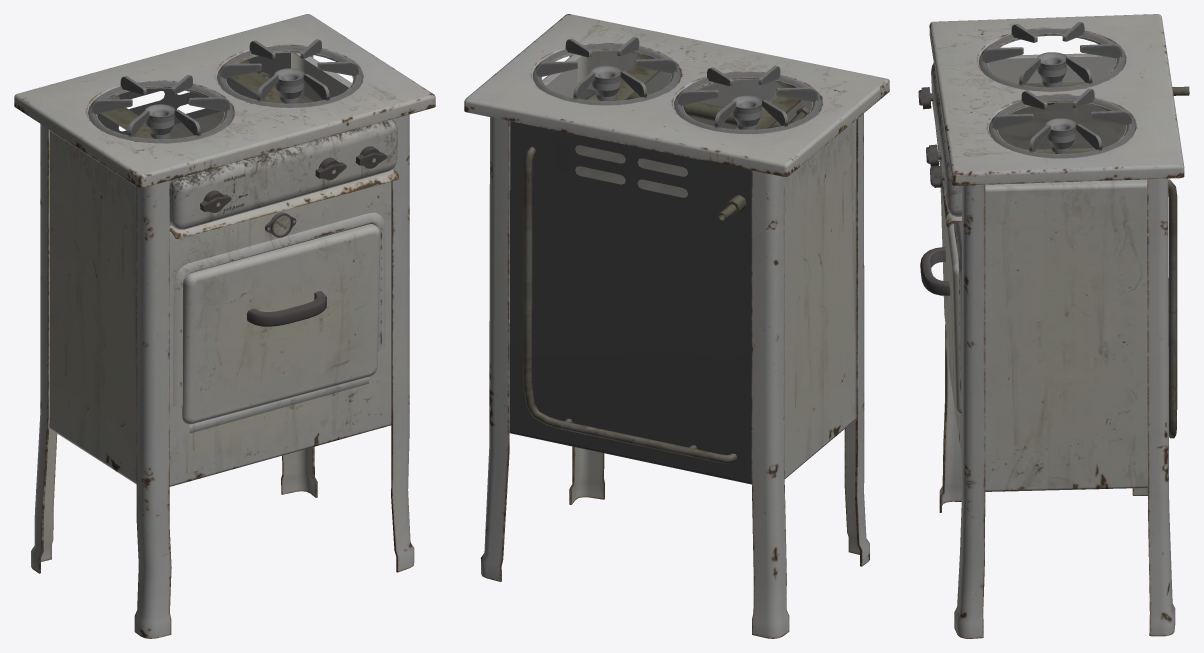
Rendered from gas_stove.glb.
3 renders of one model, left to right at view 1: azimuth 30°, elevation 25°; view 2: azimuth 150°, elevation 25°; view 3: azimuth 270°, elevation 25°, orthographic.
Visible parts, largest first — view 1: soviet_oven_1; view 2: soviet_oven_1; view 3: soviet_oven_1.
Boxes of the visible parts, <box> form: soviet_oven_1: <box>14,14,435,638</box>; soviet_oven_1: <box>464,14,889,638</box>; soviet_oven_1: <box>918,14,1189,638</box>.
Bounding box in the file's own units: 0.5226 × 0.7559 × 0.3797.
Materials: 1 (1 with a texture image).
